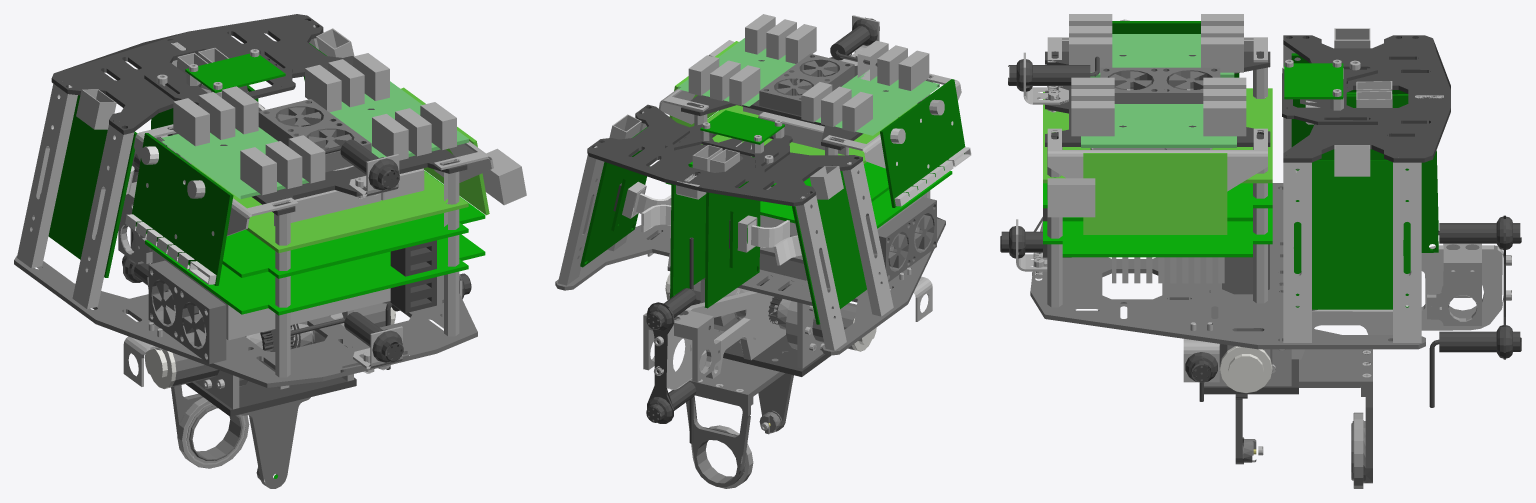
The model's file is Head_2_joint_visu.dae.
The picture shows the model from 3 angles, left to right: view 1: azimuth 30°, elevation 25°; view 2: azimuth 150°, elevation 25°; view 3: azimuth 270°, elevation 25°; orthographic projection. The views are drawn at different scales.
Parts seen in each view (by area): view 1: Visualization_Neck5; view 2: Visualization_Neck5; view 3: Visualization_Neck5.
Part boxes in pixels (x1,y1,x2,y2): Visualization_Neck5: [14, 14, 526, 488]; Visualization_Neck5: [555, 14, 971, 488]; Visualization_Neck5: [1000, 14, 1521, 488].
Bounding box in the file's own units: 0.1625 × 0.2174 × 0.1956.
